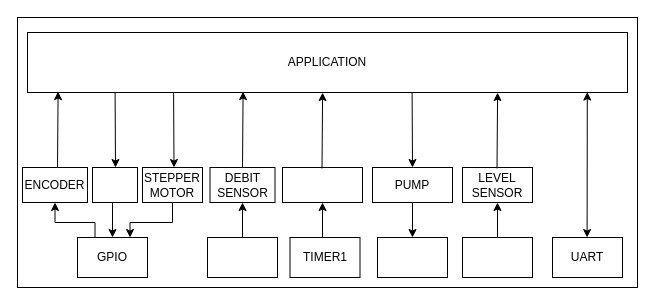
The diagram is 655 pixels wide and 305 high, and some of its shapes have lost their labels. The centre of each missing label's shape, as x and y in pixels:
"ADC" goes at (497,257).
"DISTANCE SENSOR" goes at (322,184).
"LCD 16x2" goes at (115,184).
"PWM" goes at (412,257).
"TIMER0" goes at (242,257).
